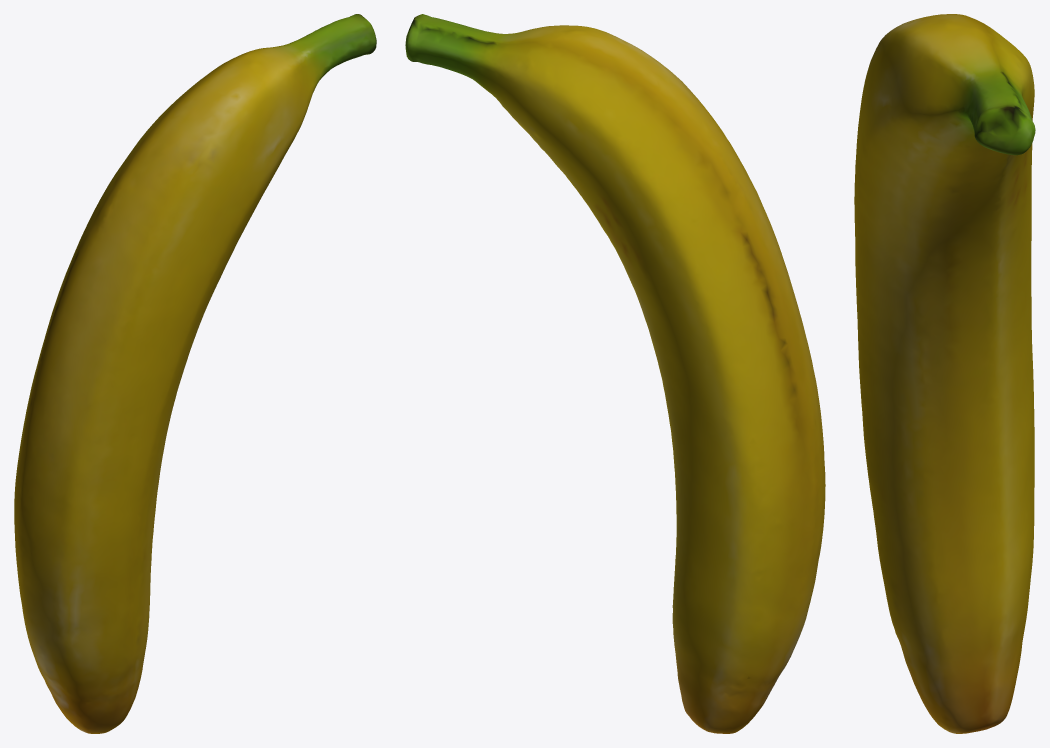
3 views of the same model, side by side, from view 1: azimuth 30°, elevation 25°; view 2: azimuth 150°, elevation 25°; view 3: azimuth 270°, elevation 25° (orthographic). The views are drawn at different scales.
Size of the model in its own units: 0.1089 by 0.1784 by 0.0367.
